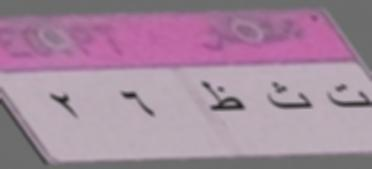2: (46, 87, 84, 126)
6: (116, 84, 157, 122)
Thaa: (198, 76, 248, 123)
taa: (324, 80, 372, 114)
thaa: (262, 80, 320, 122)
